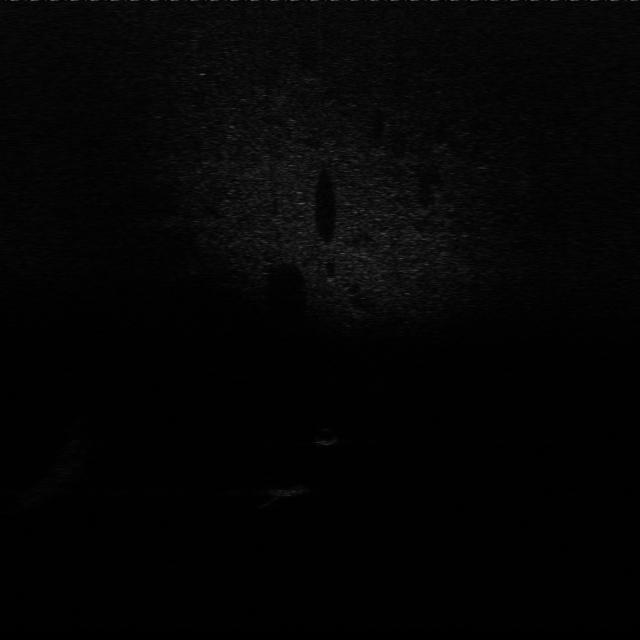ball: (308, 426, 344, 448)
circle cage: (267, 480, 311, 504)
